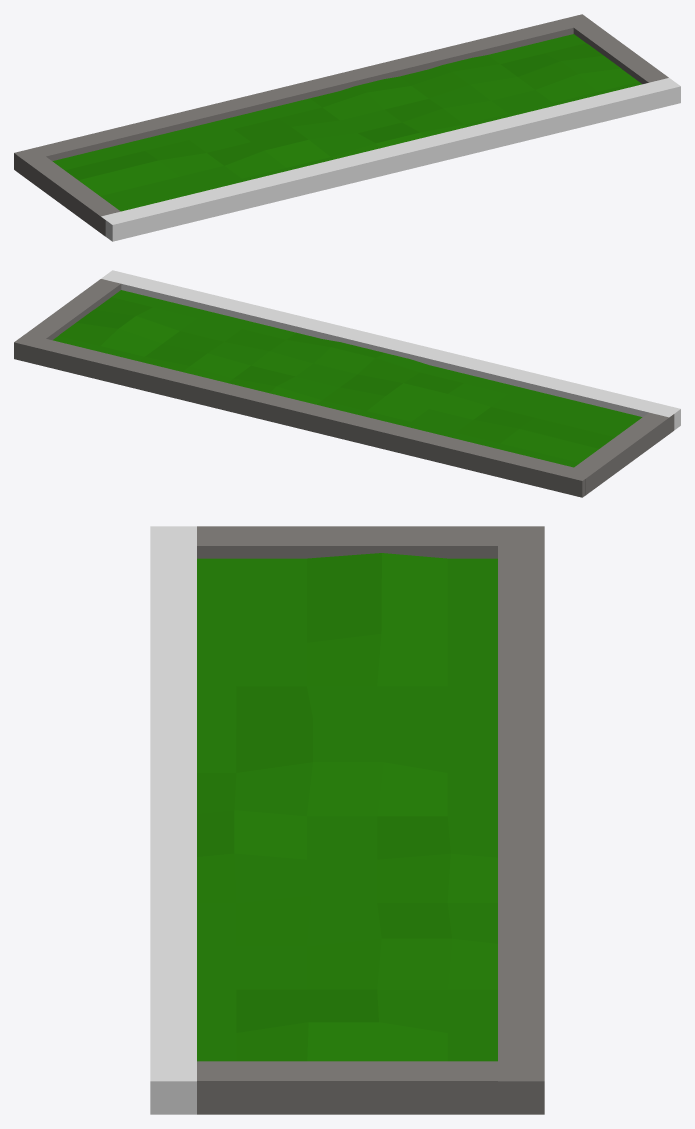
The picture shows the model from 3 angles, top to bottom: view 1: azimuth 30°, elevation 25°; view 2: azimuth 150°, elevation 25°; view 3: azimuth 270°, elevation 25°; orthographic projection. The views are drawn at different scales.
Visible parts, largest first — view 1: Plane, Cube, Cube.001, Cube.004, Cube.002; view 2: Plane, Cube.001, Cube, Cube.004, Cube.002; view 3: Plane, Cube, Cube.001, Cube.002, Cube.004.
Boxes of the visible parts, x1,y1,x2,y2 form: Plane: [52, 34, 641, 211]; Cube: [101, 78, 680, 241]; Cube.001: [14, 14, 593, 171]; Cube.004: [16, 155, 120, 236]; Cube.002: [567, 17, 668, 84]; Plane: [53, 290, 642, 467]; Cube.001: [14, 334, 593, 497]; Cube: [101, 270, 680, 429]; Cube.004: [574, 412, 674, 495]; Cube.002: [17, 279, 121, 344]; Plane: [197, 553, 497, 1061]; Cube: [150, 526, 196, 1114]; Cube.001: [498, 526, 544, 1114]; Cube.002: [197, 1061, 533, 1114]; Cube.004: [197, 526, 497, 558].
Bounding box in the file's own units: 1685 × 47.44 × 506.
